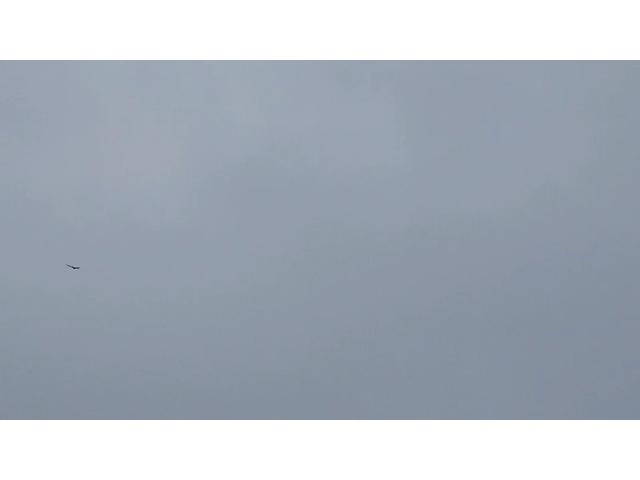Anti-Drone: (66, 264, 80, 270)
